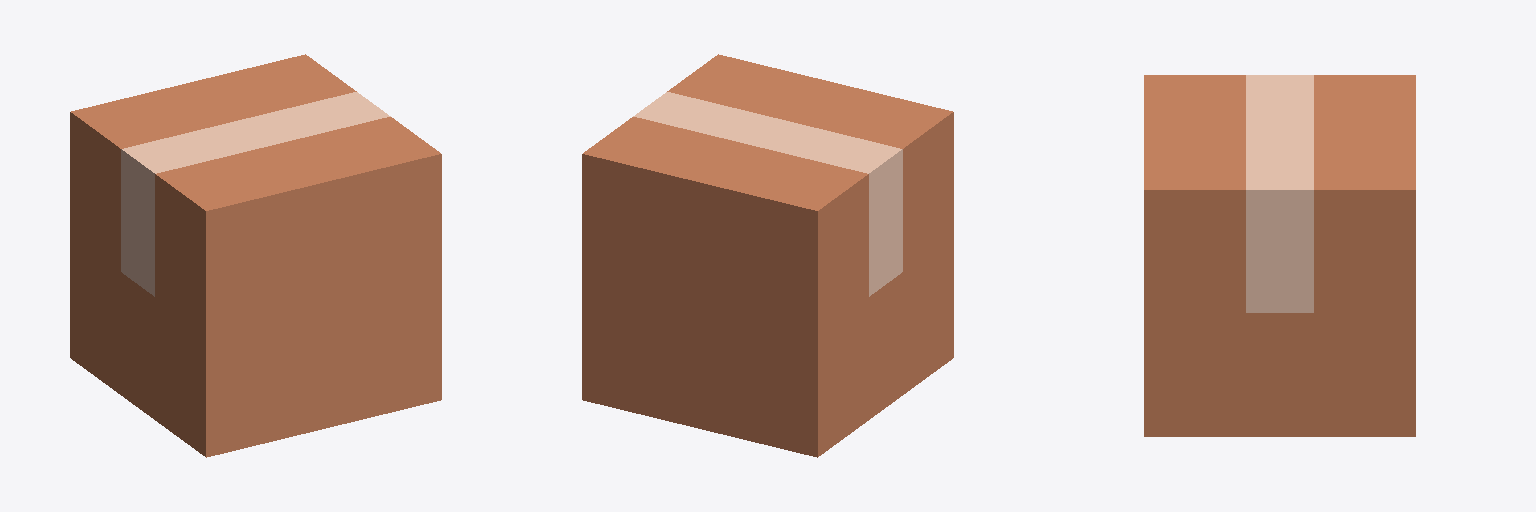
File: box-small.obj
3 views of the same model, side by side, from view 1: azimuth 30°, elevation 25°; view 2: azimuth 150°, elevation 25°; view 3: azimuth 270°, elevation 25° (orthographic).
Visible parts, largest first — view 1: box-small; view 2: box-small; view 3: box-small.
Boxes of the visible parts, <box> form: box-small: <box>70,54,441,457</box>; box-small: <box>582,54,953,457</box>; box-small: <box>1144,75,1415,436</box>.
Bounding box in the file's own units: 0.5 × 0.5 × 0.5.